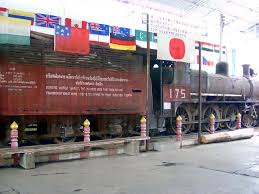Japanese Flag: (156, 30, 197, 66)
